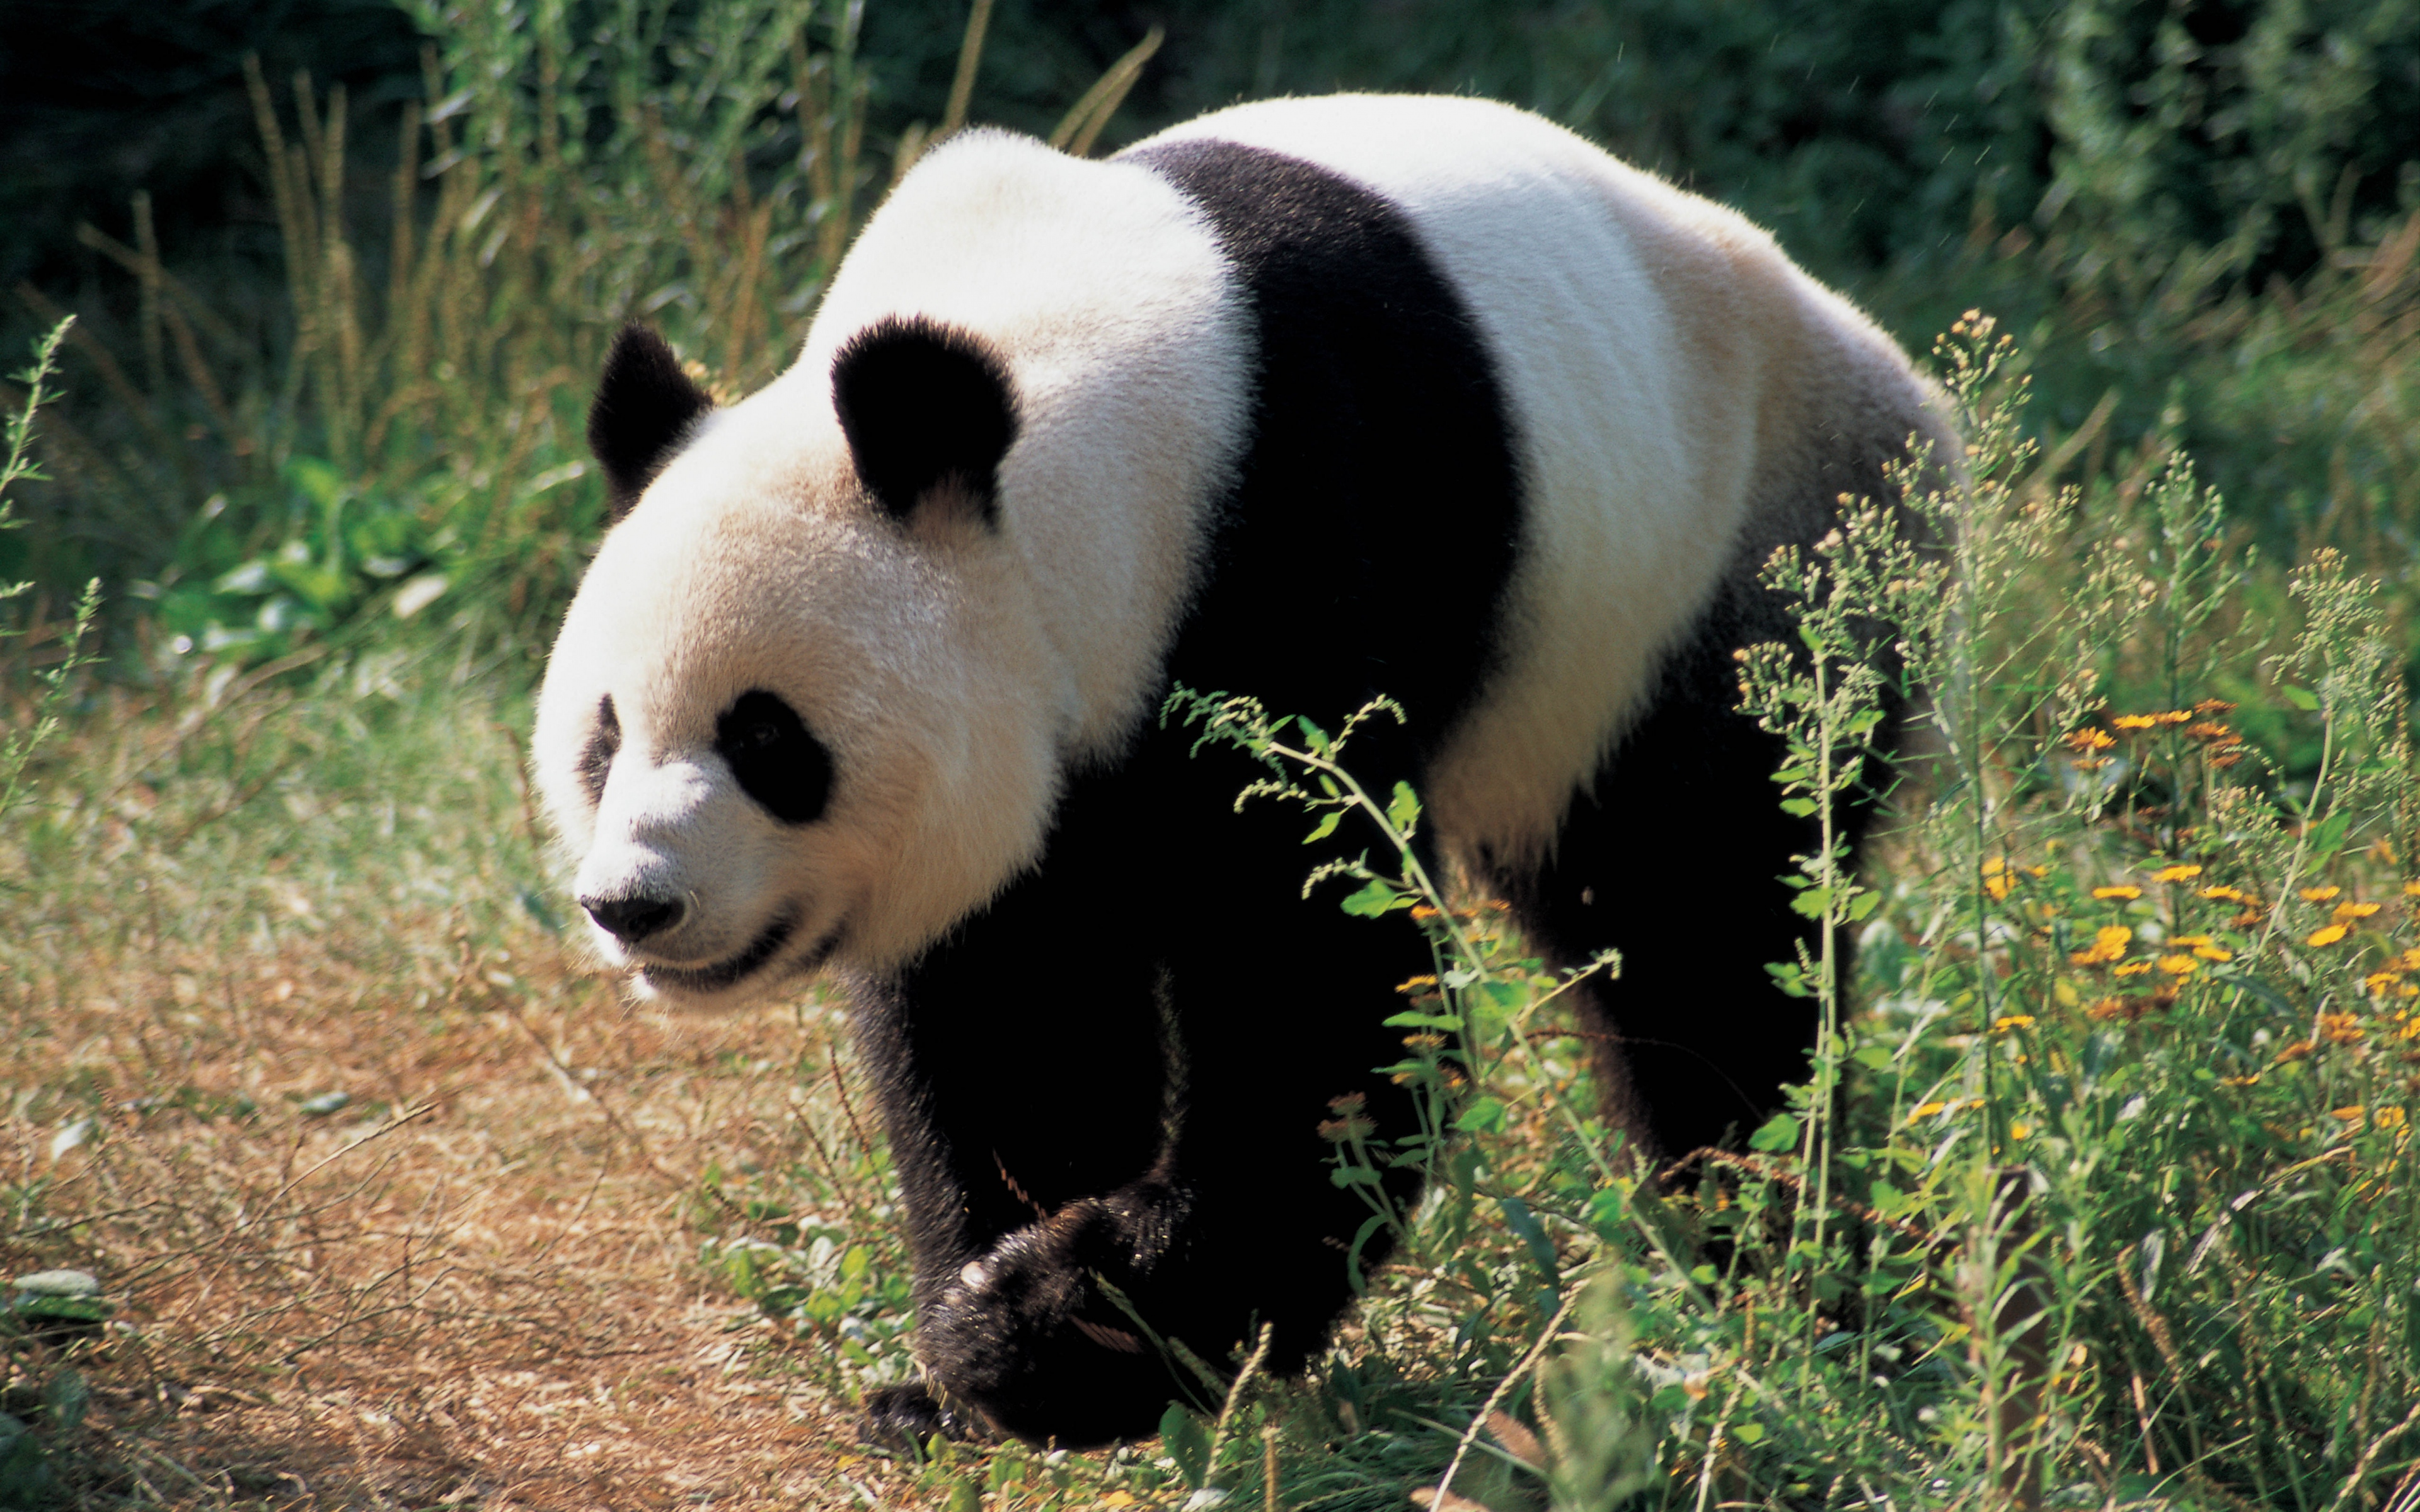panda: (366, 96, 2085, 1428)
